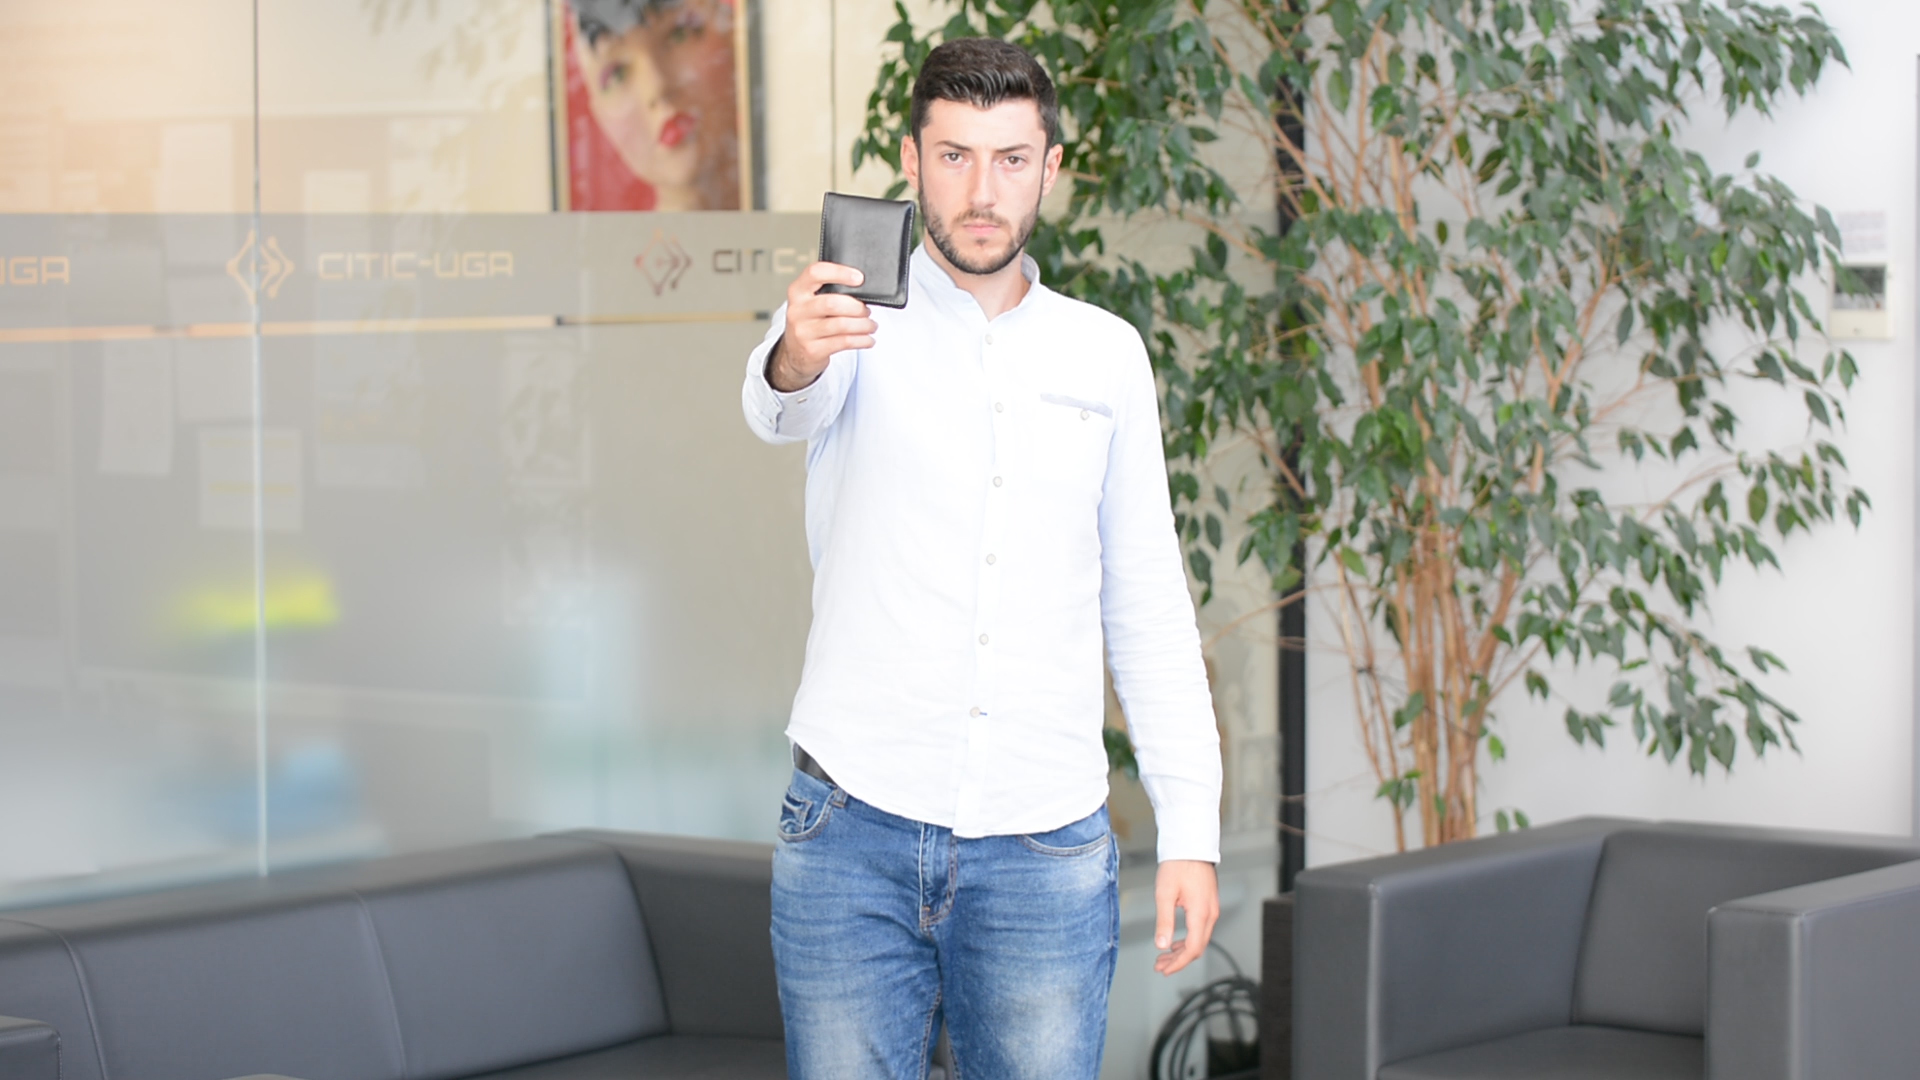monedero: (818, 191, 919, 309)
